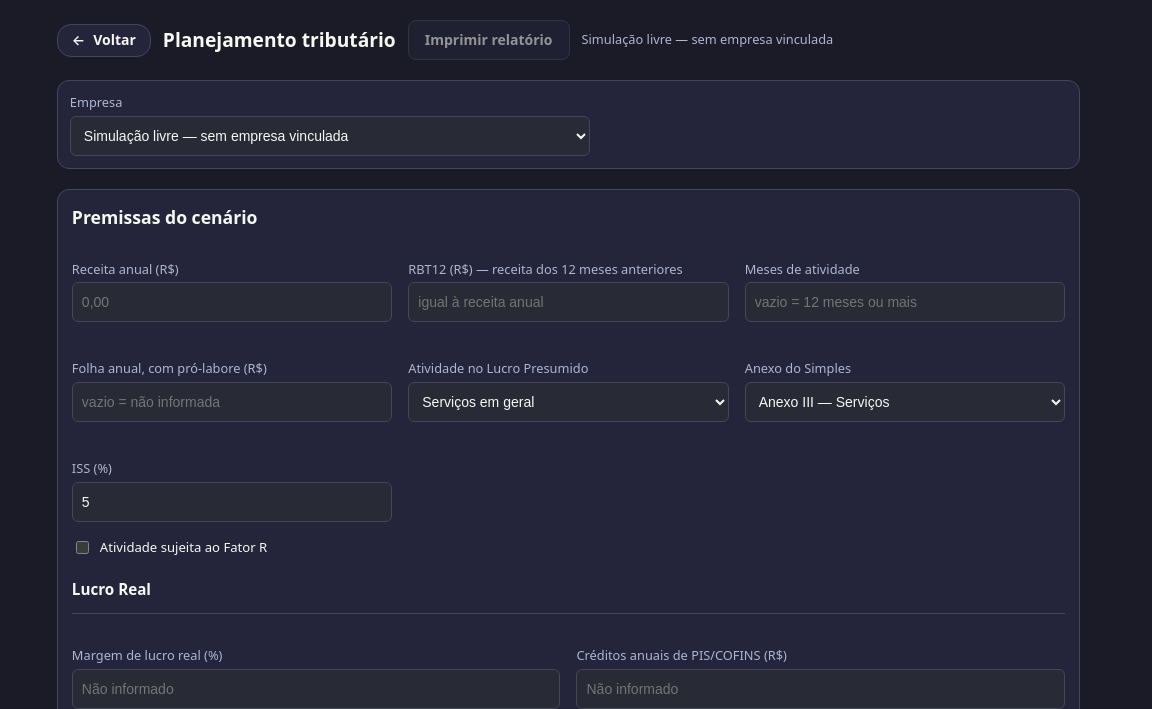
Test: ⚠⚠⚠ a confirmação do art. 15 § 4º NÃO atravessa a troca de empresa › confirmar 16% na ALFA e ir para a BETA deixa a BETA SEM resposta
The width and height of the screenshot is (1152, 709).
Select "ALFA SERVICOS LTDA — 11111111000111" in the dropdown labelled "Empresa" at (330, 136), box [70,116,590,156]
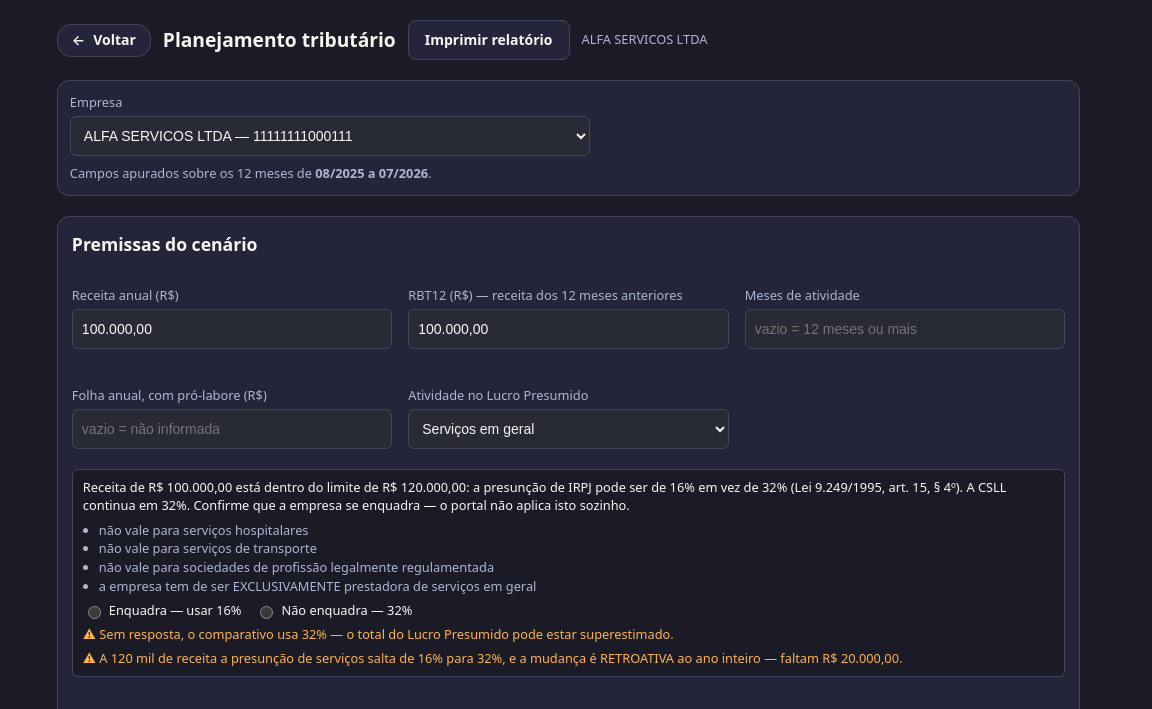
Check: the radio button labelled "Enquadra — usar 16%" is shown
Click the radio button labelled "Enquadra — usar 16%" at (94, 612), box [88,606,101,619]
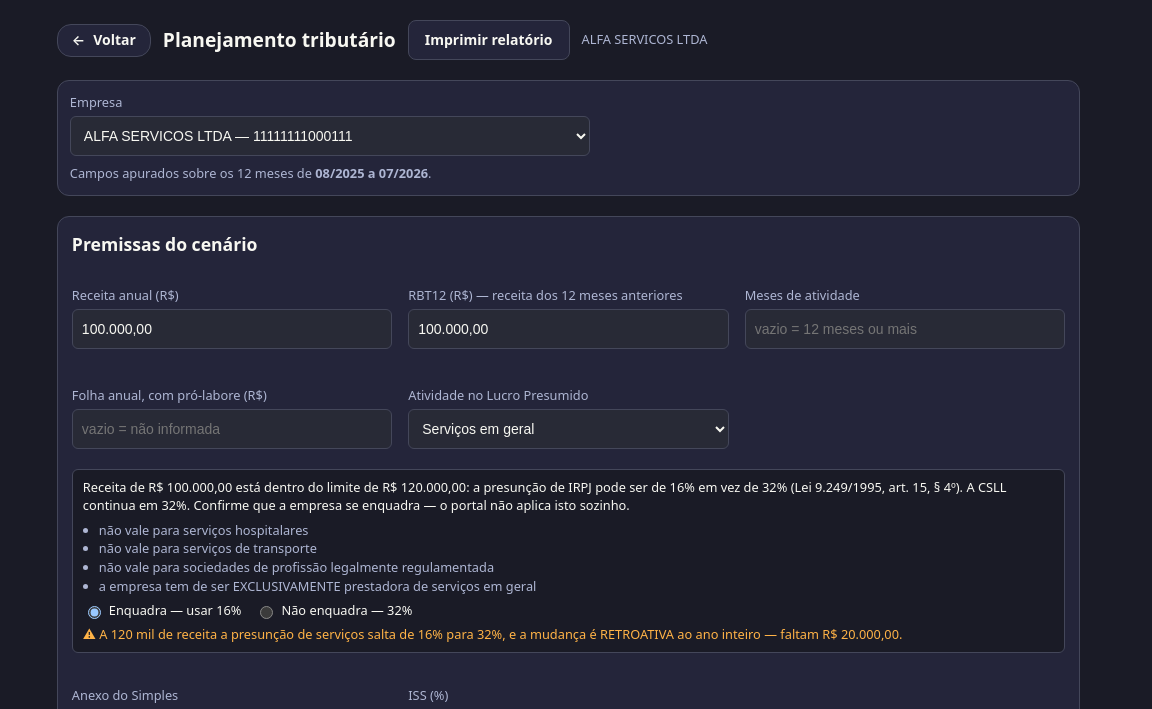
Check: the radio button labelled "Enquadra — usar 16%" is checked, box [88,606,101,619]
Check: the text "o comparativo usa 32%" is gone
Select "BETA COMERCIO SA — 22222222000122" in the dropdown labelled "Empresa" at (330, 136), box [70,116,590,156]
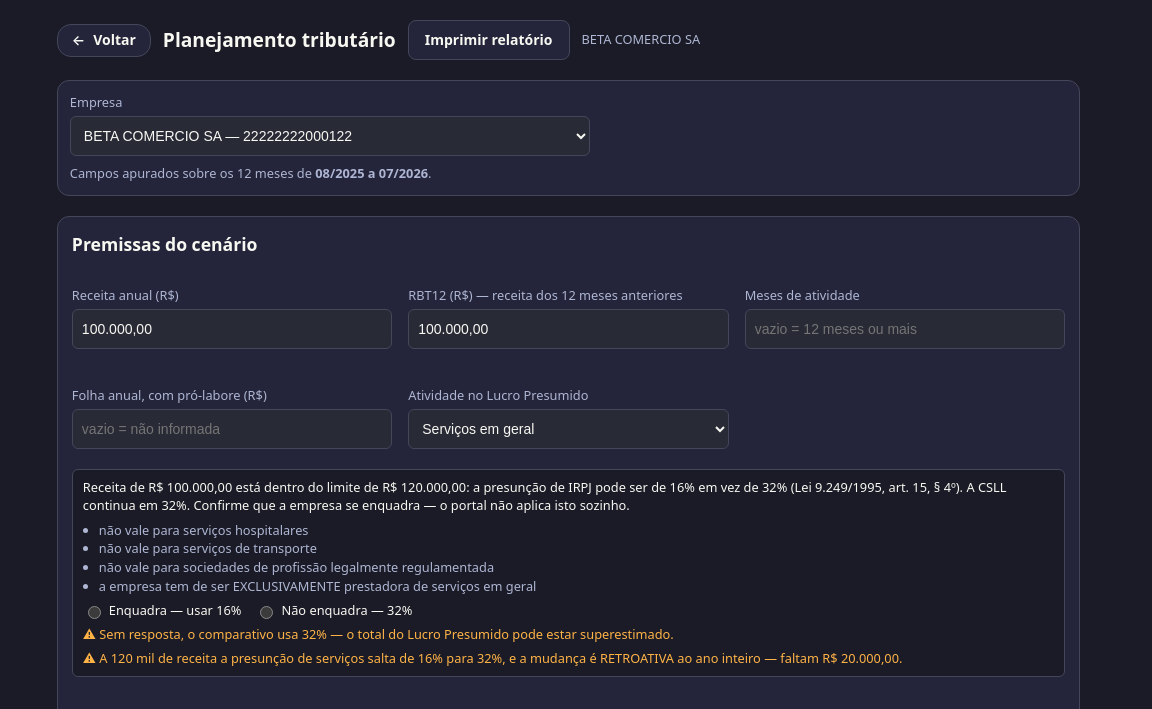
Check: the radio button labelled "Enquadra — usar 16%" is not checked, box [88,606,101,619]
Check: the text "o comparativo usa 32%" is shown, box [83,625,674,643]
